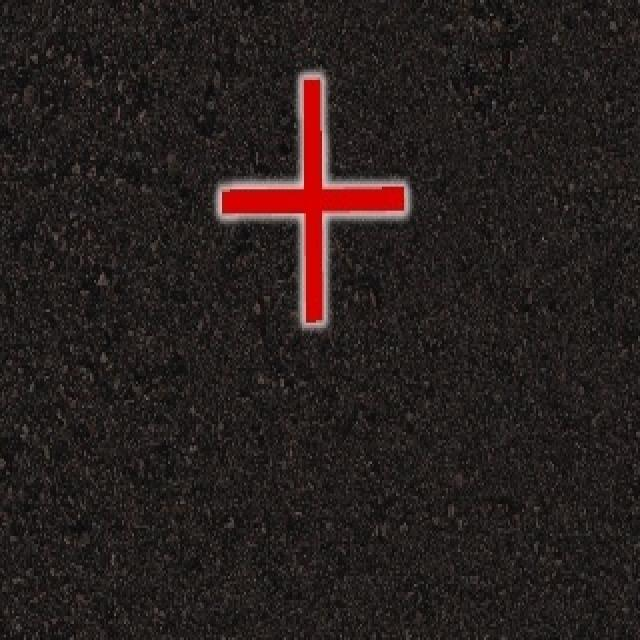x_marker: (219, 76, 405, 321)
